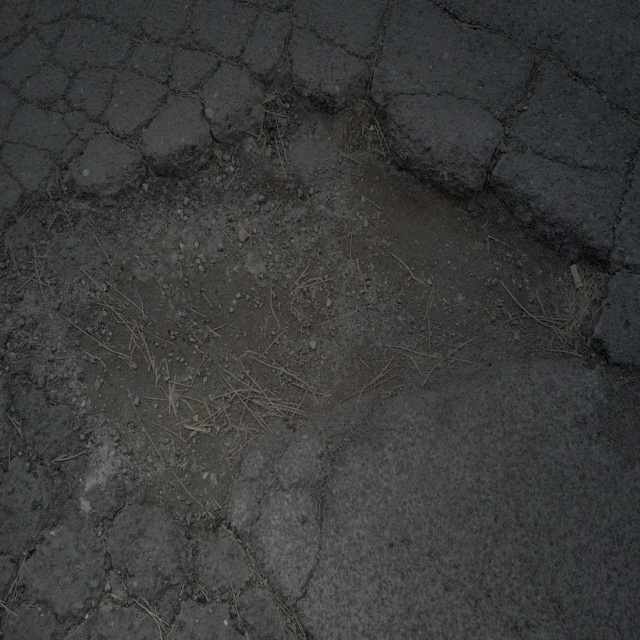pothole: (63, 75, 611, 468)
